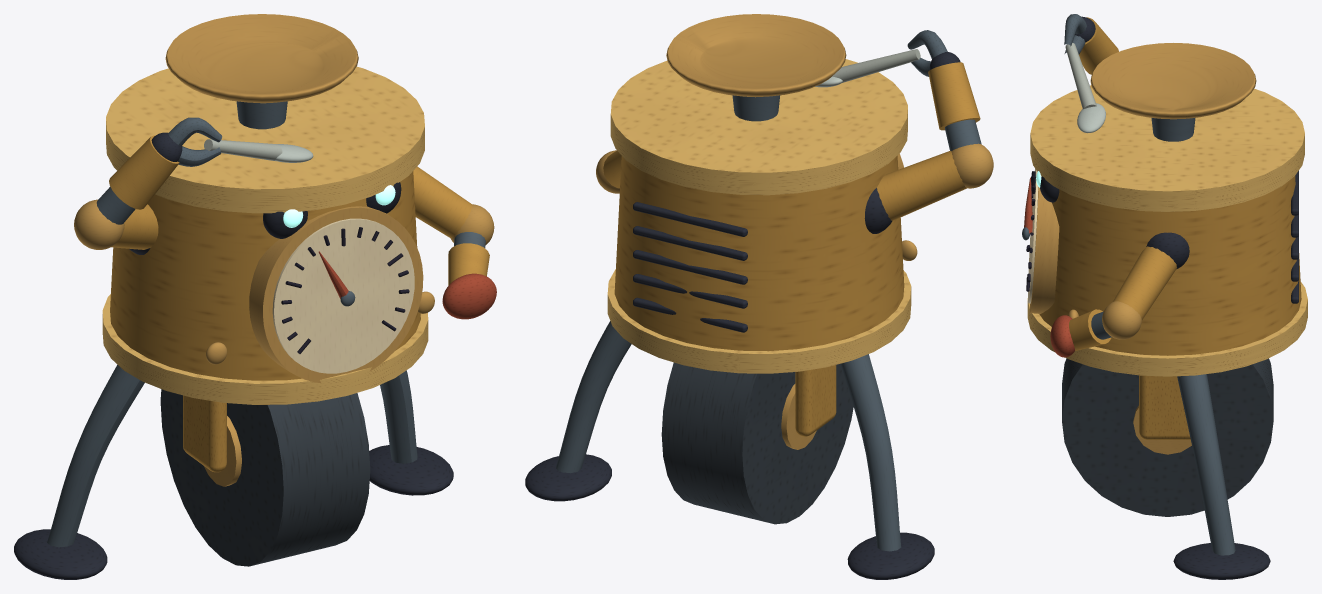
File: tally.glb
3 renders of one model, left to right at view 1: azimuth 30°, elevation 25°; view 2: azimuth 150°, elevation 25°; view 3: azimuth 270°, elevation 25°, orthographic. The views are drawn at different scales.
Visible parts, largest first — view 1: Drum rim, Drive wheel, Weighing drum, Cream dial, Weighing pan, Drum skirt, Kickstand leg (×2), Metal bezel, Kickstand foot (×2), Forearm sleeve (×2), Upper link (×2), Wheel fork (+8 smaller); view 2: Weighing drum, Drum rim, Drive wheel, Weighing pan, Kickstand leg (×2), Drum skirt, Kickstand foot (×2), Rear cooling louver (×5), Upper link, Wheel fork, Forearm sleeve, Elbow bearing (+6 smaller); view 3: Weighing drum, Drum rim, Drive wheel, Weighing pan, Drum skirt, Kickstand leg, Wheel fork, Kickstand foot, Metal bezel, Upper link, Forearm sleeve (×2), Elbow bearing (+8 smaller).
Boxes of the visible parts, x1,y1,x2,y2 form: Drum rim: (106, 66, 424, 213); Drive wheel: (160, 389, 370, 566); Weighing drum: (110, 171, 420, 380); Cream dial: (272, 218, 414, 373); Weighing pan: (165, 14, 358, 103); Drum skirt: (102, 294, 428, 404); Kickstand leg (×2): (47, 365, 417, 547); Metal bezel: (249, 206, 423, 383); Kickstand foot (×2): (14, 445, 453, 579); Forearm sleeve (×2): (109, 135, 489, 285); Upper link (×2): (111, 166, 472, 249); Wheel fork: (183, 395, 226, 472); Weighing drum: (614, 155, 904, 351); Drum rim: (610, 59, 907, 195); Drive wheel: (661, 362, 853, 524); Weighing pan: (666, 14, 846, 97); Kickstand leg (×2): (556, 321, 901, 551); Drum skirt: (607, 269, 911, 373); Kickstand foot (×2): (525, 454, 934, 579); Rear cooling louver (×5): (633, 202, 747, 332); Upper link: (877, 151, 966, 220); Wheel fork: (795, 365, 836, 436); Forearm sleeve: (928, 62, 980, 130); Elbow bearing: (951, 143, 993, 188); Weighing drum: (1039, 176, 1301, 355); Drum rim: (1030, 85, 1304, 211); Drive wheel: (1062, 358, 1273, 516); Weighing pan: (1090, 43, 1256, 119); Drum skirt: (1027, 282, 1307, 376); Kickstand leg: (1177, 374, 1235, 555); Wheel fork: (1139, 375, 1190, 439); Kickstand foot: (1173, 543, 1270, 579); Metal bezel: (1030, 187, 1059, 313); Upper link: (1113, 246, 1176, 319); Forearm sleeve (×2): (1069, 17, 1118, 350); Elbow bearing: (1102, 301, 1141, 339).
Bounding box in the file's own units: 1.49 × 1.66 × 0.9993.
Materials: 16 (15 with a texture image).
